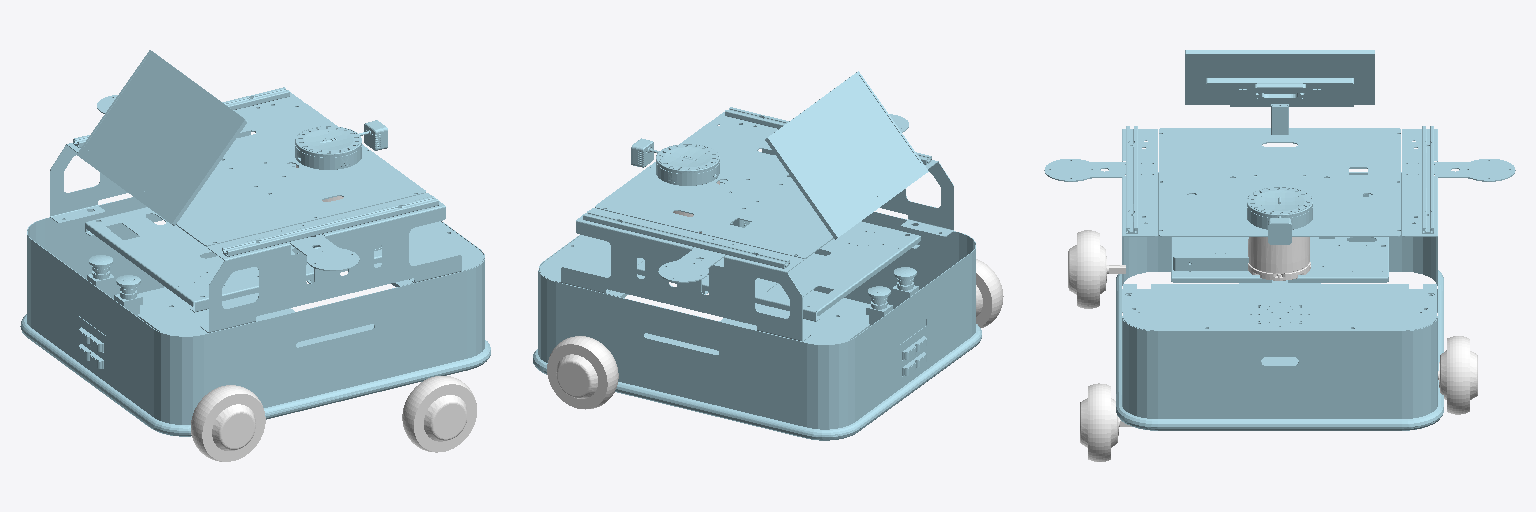
URDF robot description (lucsys_lsr550_mec_flagship_independent_suspension):
<?xml version="1.0" encoding="utf-8"?>
<robot name="lucsys_lsr550_mec_flagship_independent_suspension">
  <link name="base_link">
    <inertial>
      <origin xyz="-0.0385182112124468 0.00140733003745149 0.12815733674168" rpy="0 0 0" />
      <mass value="5.2092212049355" />
      <inertia ixx="0.0825693826040625" ixy="0.000149244809494199" ixz="-0.00116373756279965" iyy="0.0805339507733737" iyz="0.000116560263864275" izz="0.156583625303046" />
    </inertial>
    <visual>
      <origin xyz="0 0 0" rpy="0 0 0" />
      <geometry>
        <mesh filename="package://lucsys_lsr550_mec_flagship_independent_suspension_description/meshes/lsr550_mec_flagship_independent_suspension/base_link.STL" />
      </geometry>
      <material name="lucsys_material_0">
        <color rgba="0.741176470588235 0.901960784313726 0.956862745098039 1" />
      </material>
    </visual>
    <collision>
      <origin xyz="0 0 0" rpy="0 0 0" />
      <geometry>
        <mesh filename="package://lucsys_lsr550_mec_flagship_independent_suspension_description/meshes/lsr550_mec_flagship_independent_suspension/base_link.STL" />
      </geometry>
    </collision>
  </link>
  <link name="controller_link">
    <inertial>
      <origin xyz="0.0349782325134063 0.0354906727557576 -0.0933944882253789" rpy="0 0 0" />
      <mass value="13.7497679689941" />
      <inertia ixx="0.372672259515749" ixy="-0.00152726371611815" ixz="0.0238104845781645" iyy="0.463511167576731" iyz="-0.000604933691990789" izz="0.68901162170127" />
    </inertial>
    <visual>
      <origin xyz="0 0 0" rpy="0 0 0" />
      <geometry>
        <mesh filename="package://lucsys_lsr550_mec_flagship_independent_suspension_description/meshes/lsr550_mec_flagship_independent_suspension/controller_link.STL" />
      </geometry>
      <material name="lucsys_material_1">
        <color rgba="0.741176470588235 0.901960784313726 0.956862745098039 1" />
      </material>
    </visual>
    <collision>
      <origin xyz="0 0 0" rpy="0 0 0" />
      <geometry>
        <mesh filename="package://lucsys_lsr550_mec_flagship_independent_suspension_description/meshes/lsr550_mec_flagship_independent_suspension/controller_link.STL" />
      </geometry>
    </collision>
  </link>
  <joint name="controller_joint" type="fixed">
    <origin xyz="-0.03596 -0.036589 0.1798" rpy="0 0 0" />
    <parent link="base_link" />
    <child link="controller_link" />
    <axis xyz="0 0 0" />
  </joint>
  <link name="camera_link">
    <inertial>
      <origin xyz="-4.27512554246334E-08 -3.48614406050848E-07 1.07624260753392E-07" rpy="0 0 0" />
      <mass value="0.0559842512077705" />
      <inertia ixx="0.000130810959338941" ixy="1.20255128268298E-07" ixz="1.62335437078697E-06" iyy="1.91148634967614E-05" iyz="-2.80016756385598E-08" izz="0.000131387469522753" />
    </inertial>
    <visual>
      <origin xyz="0 0 0" rpy="0 0 0" />
      <geometry>
        <mesh filename="package://lucsys_lsr550_mec_flagship_independent_suspension_description/meshes/lsr550_mec_flagship_independent_suspension/camera_link.STL" />
      </geometry>
      <material name="lucsys_material_2">
        <color rgba="1 1 1 1" />
      </material>
    </visual>
    <collision>
      <origin xyz="0 0 0" rpy="0 0 0" />
      <geometry>
        <mesh filename="package://lucsys_lsr550_mec_flagship_independent_suspension_description/meshes/lsr550_mec_flagship_independent_suspension/camera_link.STL" />
      </geometry>
    </collision>
  </link>
  <joint name="camera_joint" type="fixed">
    <origin xyz="0.26489 -0.001222 0.1659" rpy="0 0 0" />
    <parent link="base_link" />
    <child link="camera_link" />
    <axis xyz="0 0 0" />
  </joint>
  <link name="laser_link">
    <inertial>
      <origin xyz="-0.000792227311922744 1.33119304358804E-06 -0.0296756284342814" rpy="0 0 0" />
      <mass value="0.118401562999932" />
      <inertia ixx="0.000132583547441078" ixy="-2.17388474590301E-09" ixz="-1.07082621762921E-06" iyy="0.000135451246710614" iyz="-7.24378125813245E-10" izz="0.000208462359455448" />
    </inertial>
    <visual>
      <origin xyz="0 0 0" rpy="0 0 0" />
      <geometry>
        <mesh filename="package://lucsys_lsr550_mec_flagship_independent_suspension_description/meshes/lsr550_mec_flagship_independent_suspension/laser_link.STL" />
      </geometry>
      <material name="lucsys_material_3">
        <color rgba="1 1 1 1" />
      </material>
    </visual>
    <collision>
      <origin xyz="0 0 0" rpy="0 0 0" />
      <geometry>
        <mesh filename="package://lucsys_lsr550_mec_flagship_independent_suspension_description/meshes/lsr550_mec_flagship_independent_suspension/laser_link.STL" />
      </geometry>
    </collision>
  </link>
  <joint name="laser_joint" type="fixed">
    <origin xyz="0.132555813230632 -0.00130000000000264 0.2896" rpy="0 0 0" />
    <parent link="base_link" />
    <child link="laser_link" />
    <axis xyz="0 0 0" />
  </joint>
  <link name="lf_wheel_link">
    <inertial>
      <origin xyz="-1.23007128643993E-06 -0.00443251392438576 -2.52509476023066E-07" rpy="0 0 0" />
      <mass value="0.252933438240059" />
      <inertia ixx="0.000462600798676089" ixy="-2.49294463389071E-08" ixz="-5.87830271464204E-08" iyy="0.000872204139758246" iyz="2.36302161064355E-07" izz="0.000463150385470824" />
    </inertial>
    <visual>
      <origin xyz="0 0 0" rpy="0 0 0" />
      <geometry>
        <mesh filename="package://lucsys_lsr550_mec_flagship_independent_suspension_description/meshes/lsr550_mec_flagship_independent_suspension/lf_wheel_link.STL" />
      </geometry>
      <material name="lucsys_material_4">
        <color rgba="1 1 1 1" />
      </material>
    </visual>
    <collision>
      <origin xyz="0 0 0" rpy="0 0 0" />
      <geometry>
        <mesh filename="package://lucsys_lsr550_mec_flagship_independent_suspension_description/meshes/lsr550_mec_flagship_independent_suspension/lf_wheel_link.STL" />
      </geometry>
    </collision>
  </link>
  <joint name="lf_wheel_joint" type="continuous">
    <origin xyz="0.177018162984322 0.293928000000001 0.037983" rpy="0 0 0" />
    <parent link="base_link" />
    <child link="lf_wheel_link" />
    <axis xyz="0 -1 0" />
  </joint>
  <link name="lb_wheel_link">
    <inertial>
      <origin xyz="-1.79549139484037E-06 -0.00460588894371011 -1.42325015509148E-07" rpy="0 0 0" />
      <mass value="0.247565401061819" />
      <inertia ixx="0.000450210228639961" ixy="2.5137406934399E-08" ixz="-5.76099794902906E-08" iyy="0.00084792182997602" iyz="-2.36040828261662E-07" izz="0.000450756322806282" />
    </inertial>
    <visual>
      <origin xyz="0 0 0" rpy="0 0 0" />
      <geometry>
        <mesh filename="package://lucsys_lsr550_mec_flagship_independent_suspension_description/meshes/lsr550_mec_flagship_independent_suspension/lb_wheel_link.STL" />
      </geometry>
      <material name="lucsys_material_5">
        <color rgba="1 1 1 1" />
      </material>
    </visual>
    <collision>
      <origin xyz="0 0 0" rpy="0 0 0" />
      <geometry>
        <mesh filename="package://lucsys_lsr550_mec_flagship_independent_suspension_description/meshes/lsr550_mec_flagship_independent_suspension/lb_wheel_link.STL" />
      </geometry>
    </collision>
  </link>
  <joint name="lb_wheel_joint" type="continuous">
    <origin xyz="-0.17498 0.29447 0.037983" rpy="0 0 0" />
    <parent link="base_link" />
    <child link="lb_wheel_link" />
    <axis xyz="0 1 0" />
  </joint>
  <link name="rb_wheel_link">
    <inertial>
      <origin xyz="-1.18600560880533E-06 0.00450894783318911 -2.45703136267372E-07" rpy="0 0 0" />
      <mass value="0.252933431609788" />
      <inertia ixx="0.000462600795641804" ixy="-2.49292376227619E-08" ixz="-5.87767098320041E-08" iyy="0.000872204139451522" iyz="2.36301279359248E-07" izz="0.000463150387394281" />
    </inertial>
    <visual>
      <origin xyz="0 0 0" rpy="0 0 0" />
      <geometry>
        <mesh filename="package://lucsys_lsr550_mec_flagship_independent_suspension_description/meshes/lsr550_mec_flagship_independent_suspension/rb_wheel_link.STL" />
      </geometry>
      <material name="lucsys_material_6">
        <color rgba="1 1 1 1" />
      </material>
    </visual>
    <collision>
      <origin xyz="0 0 0" rpy="0 0 0" />
      <geometry>
        <mesh filename="package://lucsys_lsr550_mec_flagship_independent_suspension_description/meshes/lsr550_mec_flagship_independent_suspension/rb_wheel_link.STL" />
      </geometry>
    </collision>
  </link>
  <joint name="rb_wheel_joint" type="continuous">
    <origin xyz="-0.17498 -0.29707 0.037983" rpy="0 0 0" />
    <parent link="base_link" />
    <child link="rb_wheel_link" />
    <axis xyz="0 1 0" />
  </joint>
  <link name="rf_wheel_link">
    <inertial>
      <origin xyz="1.85537837943395E-06 0.00460582493330264 -1.39995347467337E-07" rpy="0 0 0" />
      <mass value="0.247566594964803" />
      <inertia ixx="0.000450209955287955" ixy="2.52315145055208E-08" ixz="5.76029225589523E-08" iyy="0.000847921905106102" iyz="2.36042356751197E-07" izz="0.000450756678980562" />
    </inertial>
    <visual>
      <origin xyz="0 0 0" rpy="0 0 0" />
      <geometry>
        <mesh filename="package://lucsys_lsr550_mec_flagship_independent_suspension_description/meshes/lsr550_mec_flagship_independent_suspension/rf_wheel_link.STL" />
      </geometry>
      <material name="lucsys_material_7">
        <color rgba="1 1 1 1" />
      </material>
    </visual>
    <collision>
      <origin xyz="0 0 0" rpy="0 0 0" />
      <geometry>
        <mesh filename="package://lucsys_lsr550_mec_flagship_independent_suspension_description/meshes/lsr550_mec_flagship_independent_suspension/rf_wheel_link.STL" />
      </geometry>
    </collision>
  </link>
  <joint name="rf_wheel_joint" type="continuous">
    <origin xyz="0.17701 -0.29707 0.037983" rpy="0 0 0" />
    <parent link="base_link" />
    <child link="rf_wheel_link" />
    <axis xyz="0 -1 0" />
  </joint>
</robot>

--- Facts derived from the render (not from the file) ---
The picture shows the robot from 3 angles, left to right: view 1: azimuth 30°, elevation 25°; view 2: azimuth 150°, elevation 25°; view 3: azimuth 270°, elevation 25°; orthographic projection.
Robot: lucsys_lsr550_mec_flagship_independent_suspension — 8 links, 7 joints (4 continuous, 3 fixed); root link base_link; default pose: every joint at zero.
Visible links, largest first — view 1: base_link, rb_wheel_link, rf_wheel_link; view 2: base_link, lf_wheel_link, rb_wheel_link; view 3: base_link, rb_wheel_link, rf_wheel_link, lf_wheel_link, laser_link.
Link boxes in pixels (x1,y1,x2,y2): base_link: [20, 50, 490, 436]; rb_wheel_link: [191, 385, 265, 461]; rf_wheel_link: [402, 376, 476, 452]; base_link: [533, 71, 981, 440]; lf_wheel_link: [547, 336, 618, 409]; rb_wheel_link: [976, 259, 1003, 327]; base_link: [1044, 50, 1515, 430]; rb_wheel_link: [1068, 230, 1125, 308]; rf_wheel_link: [1080, 383, 1131, 461]; lf_wheel_link: [1438, 336, 1477, 414]; laser_link: [1248, 237, 1310, 280].
Bounding box of the posed robot: 0.64 × 0.7764 × 0.6094 m (x, y, z).
5 mesh visuals loaded from 8 distinct referenced files (5 binary STL); not drawn: 3 (reference not matched to a file when rendering).
